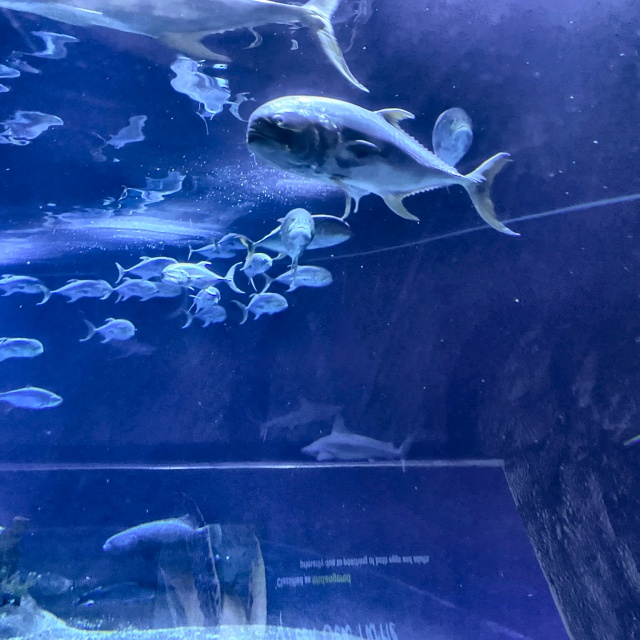fish: (244, 95, 525, 237), (103, 514, 218, 559), (258, 208, 315, 263), (163, 258, 248, 292), (185, 231, 255, 263), (37, 274, 111, 302), (0, 383, 64, 412), (232, 291, 290, 322), (113, 255, 178, 282), (78, 317, 139, 344), (264, 265, 335, 288), (0, 271, 50, 300), (106, 279, 164, 304), (183, 283, 223, 316), (0, 334, 45, 362), (181, 307, 229, 328)
shark: (0, 0, 384, 99), (304, 428, 413, 468), (260, 397, 343, 436)
